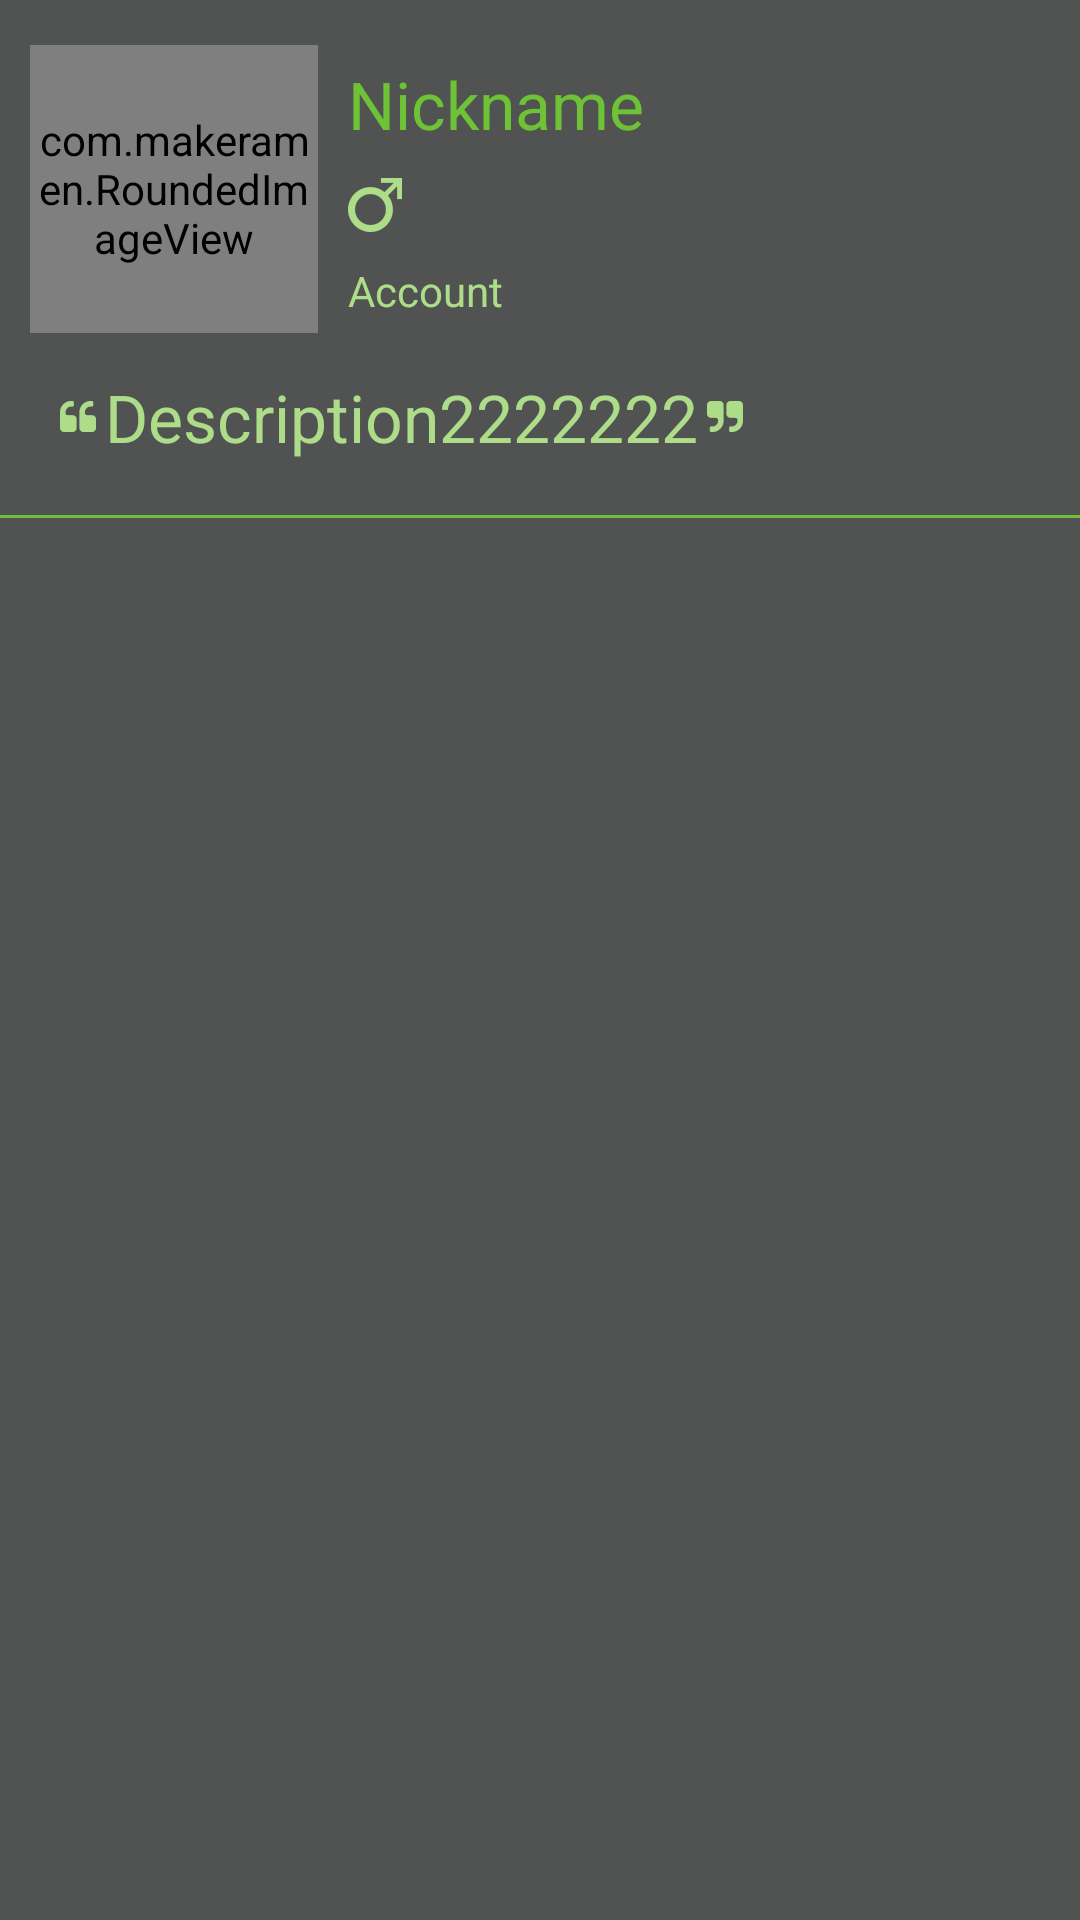

Icon bounding boxes for this 1080×1920 phone screenshot, format [x1,y1,x2,y2]:
male: [348,178,402,232]
